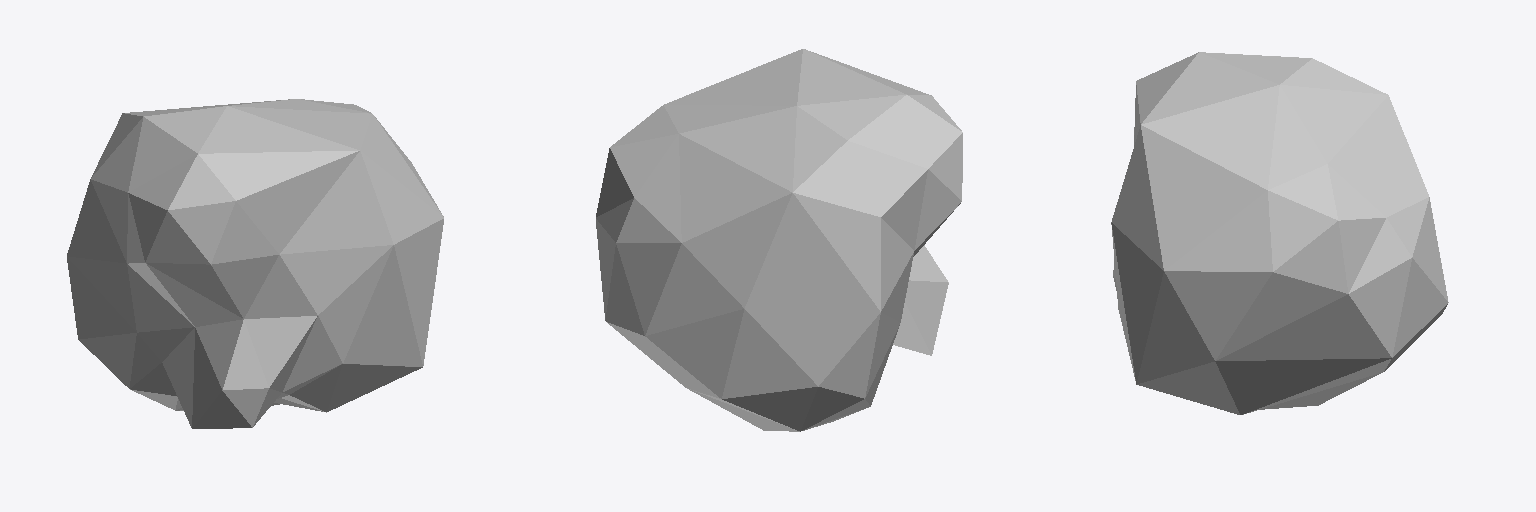
Rendered from WaterMesh.obj.
3 views of the same model, side by side, from view 1: azimuth 30°, elevation 25°; view 2: azimuth 150°, elevation 25°; view 3: azimuth 270°, elevation 25° (orthographic).
Size of the model in its own units: 1.42 by 1.4 by 1.36.